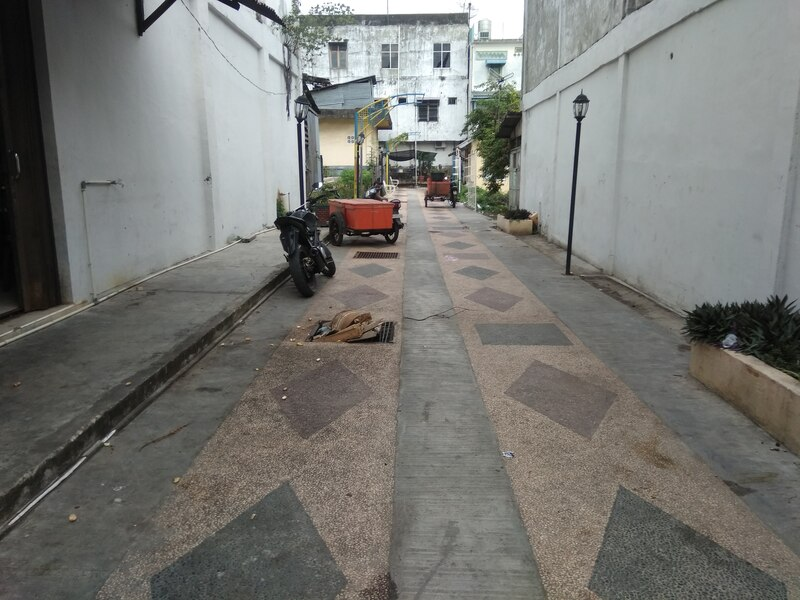becak barang: (323, 179, 410, 247), (422, 168, 463, 213)
motorcycle: (272, 181, 345, 302)
